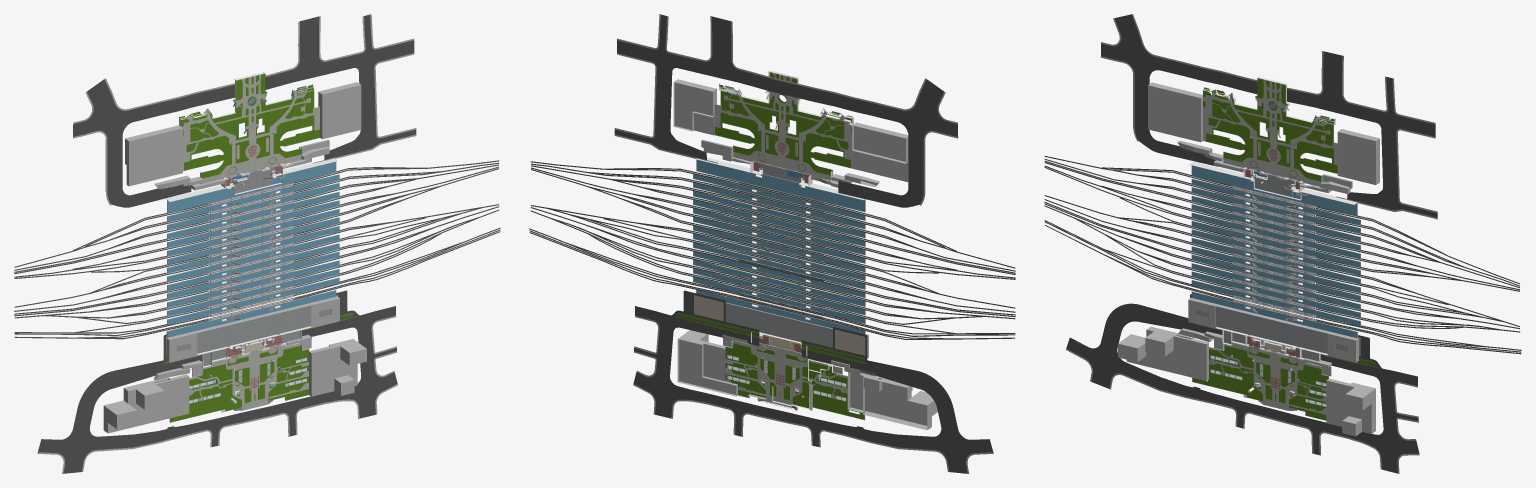
File: 4_1F_UpLand_Pack.gltf
3 renders of one model, left to right at view 1: azimuth 30°, elevation 25°; view 2: azimuth 150°, elevation 25°; view 3: azimuth 330°, elevation 25°, orthographic.
Visible parts, largest first — view 1: object 4, object 1, object 14, object 9; view 2: object 4, object 14, object 1, object 9; view 3: object 4, object 1, object 14, object 9.
Boxes of the visible parts, box(x1,y1,x2,y2) form: object 4: box(37, 14, 416, 473); object 1: box(166, 84, 339, 422); object 14: box(14, 99, 500, 422); object 9: box(181, 73, 319, 410); object 4: box(614, 14, 993, 473); object 14: box(529, 161, 1015, 419); object 1: box(693, 84, 865, 420); object 9: box(714, 72, 853, 407); object 4: box(1066, 14, 1437, 473); object 1: box(1191, 90, 1360, 409); object 14: box(1044, 104, 1521, 419); object 9: box(1203, 78, 1337, 414).
Size of the model in its own units: 1271 by 1032 by 67.71.
34 materials, 23 textured.
